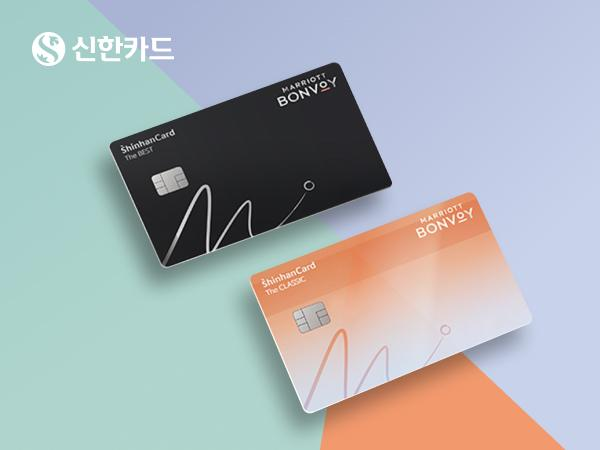Credit_card: (251, 193, 531, 412), (110, 61, 393, 266)
